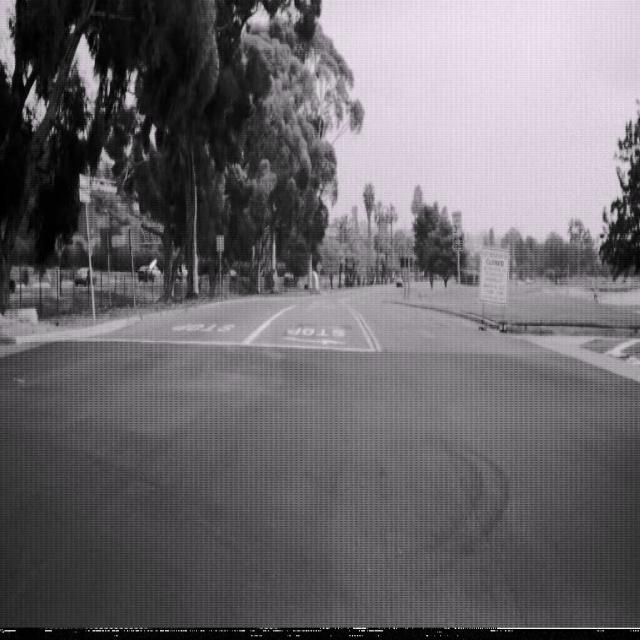speedLimit30: (452, 210, 462, 237)
